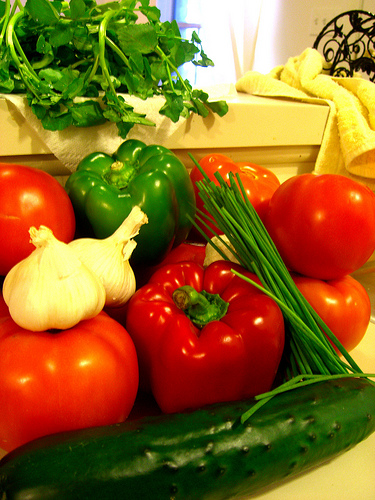cucumber: (0, 371, 373, 498)
